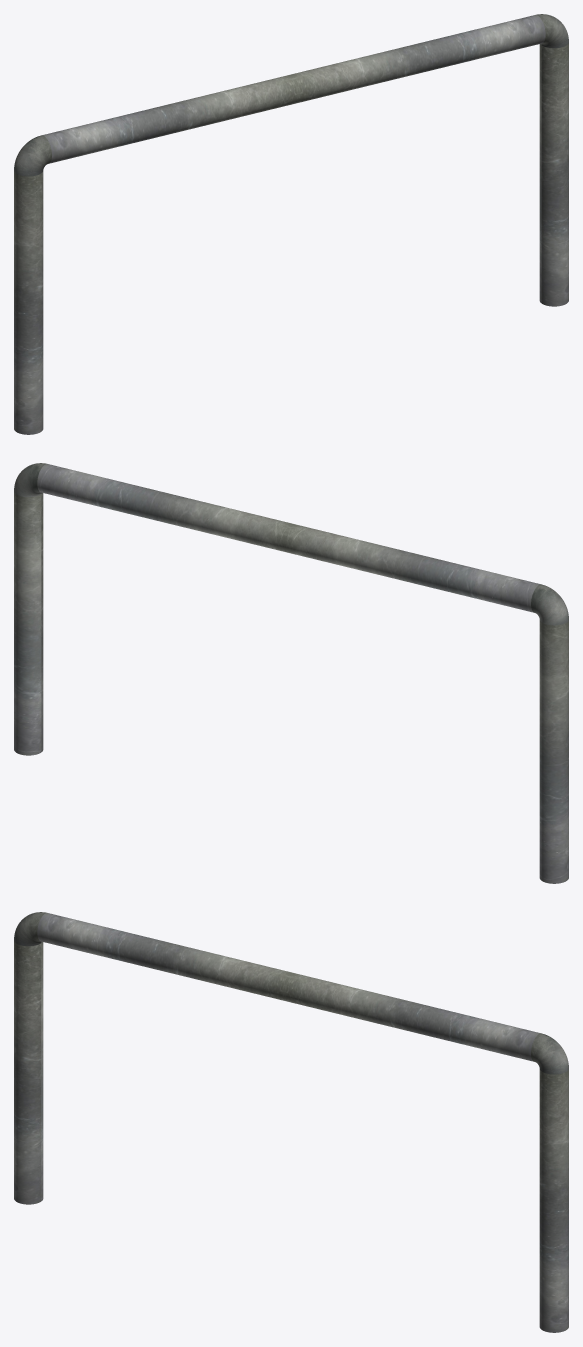
The model's file is pipe6.dae.
The picture shows the model from 3 angles, top to bottom: view 1: azimuth 30°, elevation 25°; view 2: azimuth 150°, elevation 25°; view 3: azimuth 330°, elevation 25°; orthographic projection.
Parts seen in each view (by area): view 1: bc399bb1-437c-4830-8a73-62dc8a1f5dd1, f9bb681a-ecca-4093-be7d-7d515a578a56, ac29c663-e970-48da-8efd-c2ebf5889683, a713a1ff-0ccc-42e0-b471-149cb8135c88, a6d37710-ccb1-4940-87c4-2ef888485c13, a5d9c568-ee5a-497d-a996-4ab084bd3a96; view 2: bc399bb1-437c-4830-8a73-62dc8a1f5dd1, f9bb681a-ecca-4093-be7d-7d515a578a56, ac29c663-e970-48da-8efd-c2ebf5889683, a713a1ff-0ccc-42e0-b471-149cb8135c88, a6d37710-ccb1-4940-87c4-2ef888485c13, a5d9c568-ee5a-497d-a996-4ab084bd3a96; view 3: f9bb681a-ecca-4093-be7d-7d515a578a56, bc399bb1-437c-4830-8a73-62dc8a1f5dd1, a713a1ff-0ccc-42e0-b471-149cb8135c88, ac29c663-e970-48da-8efd-c2ebf5889683, a5d9c568-ee5a-497d-a996-4ab084bd3a96, a6d37710-ccb1-4940-87c4-2ef888485c13.
Part boxes in pixels (bbox=[...]): bc399bb1-437c-4830-8a73-62dc8a1f5dd1: bbox=[14, 171, 43, 434]; f9bb681a-ecca-4093-be7d-7d515a578a56: bbox=[539, 43, 568, 306]; ac29c663-e970-48da-8efd-c2ebf5889683: bbox=[289, 15, 545, 103]; a713a1ff-0ccc-42e0-b471-149cb8135c88: bbox=[42, 75, 298, 163]; a6d37710-ccb1-4940-87c4-2ef888485c13: bbox=[14, 135, 51, 176]; a5d9c568-ee5a-497d-a996-4ab084bd3a96: bbox=[536, 14, 568, 48]; bc399bb1-437c-4830-8a73-62dc8a1f5dd1: bbox=[539, 620, 568, 883]; f9bb681a-ecca-4093-be7d-7d515a578a56: bbox=[14, 492, 43, 755]; ac29c663-e970-48da-8efd-c2ebf5889683: bbox=[37, 464, 293, 552]; a713a1ff-0ccc-42e0-b471-149cb8135c88: bbox=[284, 524, 540, 612]; a6d37710-ccb1-4940-87c4-2ef888485c13: bbox=[531, 584, 568, 625]; a5d9c568-ee5a-497d-a996-4ab084bd3a96: bbox=[14, 463, 46, 497]; f9bb681a-ecca-4093-be7d-7d515a578a56: bbox=[539, 1069, 568, 1332]; bc399bb1-437c-4830-8a73-62dc8a1f5dd1: bbox=[14, 941, 43, 1204]; a713a1ff-0ccc-42e0-b471-149cb8135c88: bbox=[37, 913, 293, 1001]; ac29c663-e970-48da-8efd-c2ebf5889683: bbox=[284, 973, 540, 1061]; a5d9c568-ee5a-497d-a996-4ab084bd3a96: bbox=[531, 1033, 568, 1074]; a6d37710-ccb1-4940-87c4-2ef888485c13: bbox=[14, 912, 46, 946].
Size of the model in its own units: 3.95 by 0.1824 by 1.98.
Materials: 6 (6 with a texture image).
